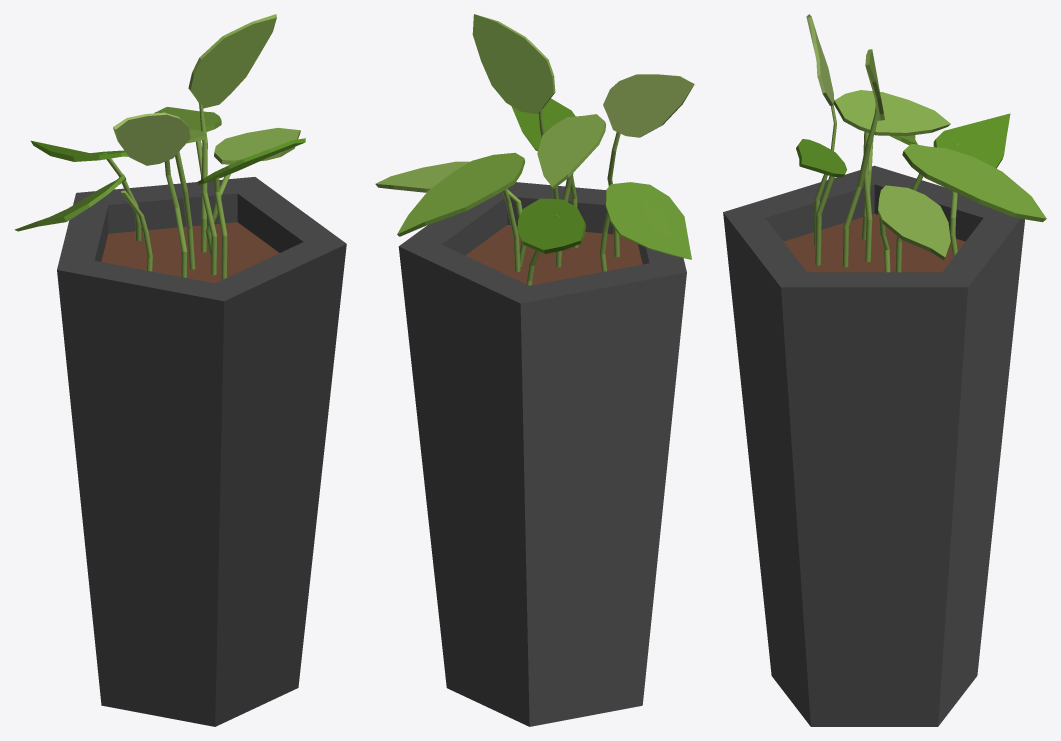
The model's file is Planta Alta.fbx.
3 renders of one model, left to right at view 1: azimuth 30°, elevation 25°; view 2: azimuth 150°, elevation 25°; view 3: azimuth 270°, elevation 25°, orthographic. The views are drawn at different scales.
Visible parts, largest first — view 1: Cube.008; view 2: Cube.008; view 3: Cube.008.
Part boxes in pixels (x1,y1,x2,y2): Cube.008: (14,14,346,726); Cube.008: (375,14,694,726); Cube.008: (723,14,1046,726).
Bounding box in the file's own units: 90.68 × 186 × 82.18.
1 material, 1 textured.
